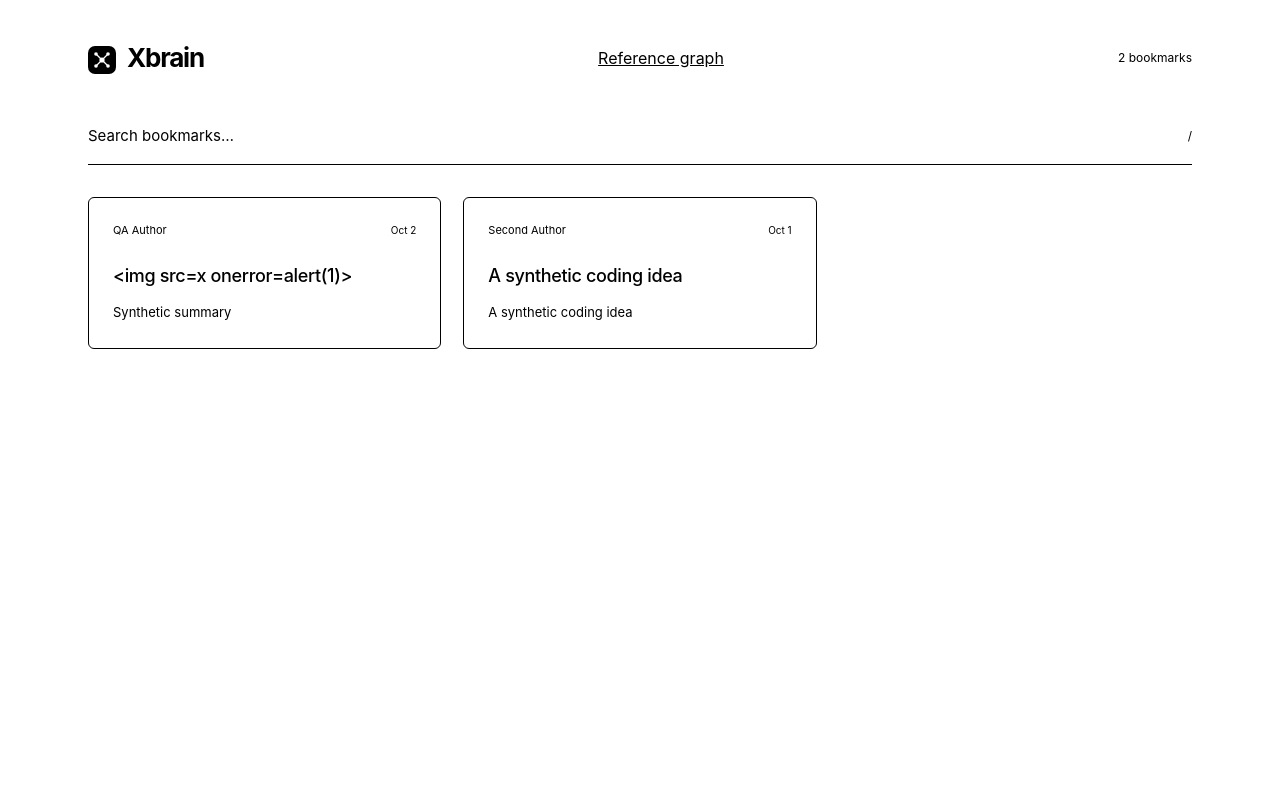
Scenario: Read-only bookmark gallery › renders untrusted markup as literal text
The image size is (1280, 800).
Check: the heading "<img src=x onerror=alert(1)>" is shown, box [113, 265, 352, 286]
Click the button with aria-label "Read <img src=x onerror=alert(1)>" at (265, 273), box [89, 198, 440, 348]
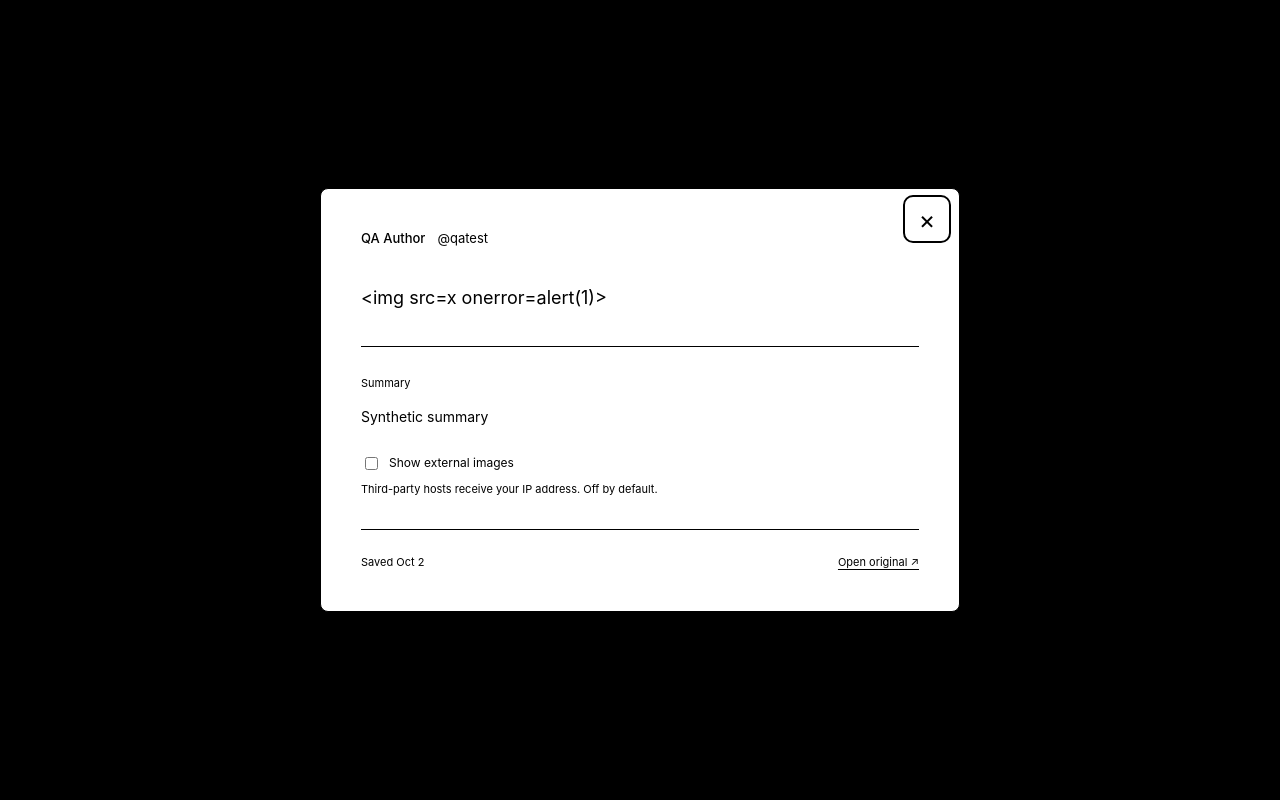
Check: the text "<img src=x onerror=alert(1)>" is shown, box [361, 287, 607, 308]
